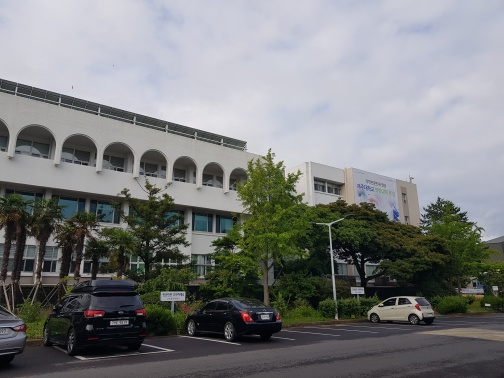Main Building of University: (4, 79, 431, 289), (13, 119, 227, 195)
